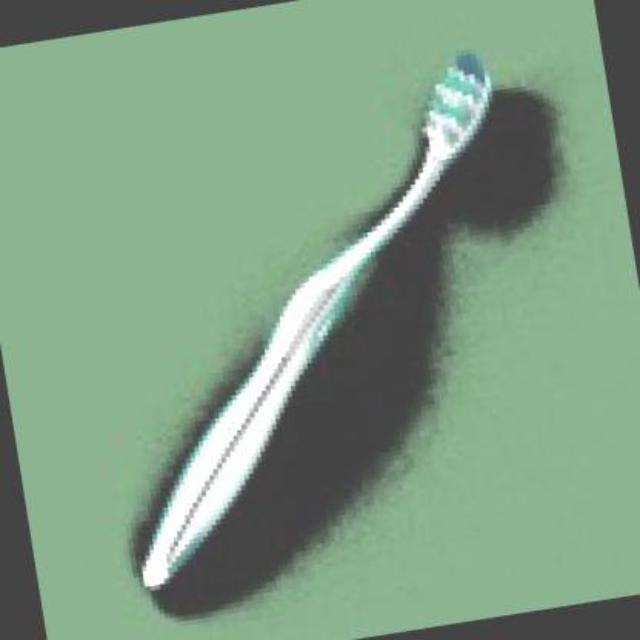toothbrush: (1, 14, 610, 638)
